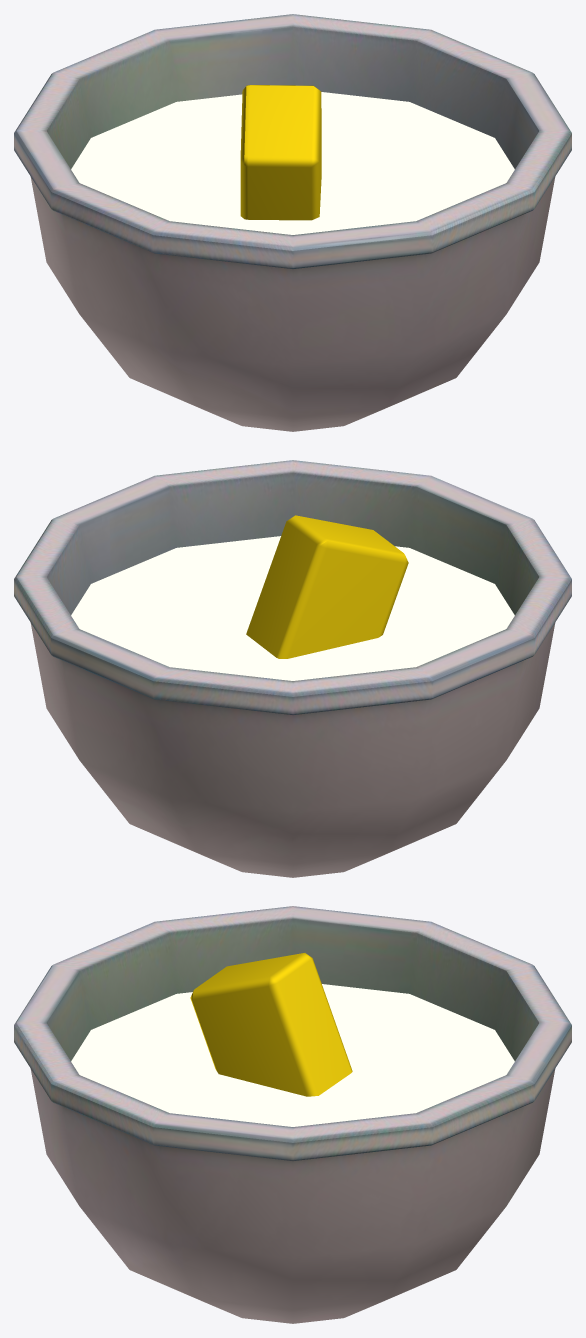
Rendered from mixingBowlButtered.glb.
3 views of the same model, one above another, from view 1: azimuth 30°, elevation 25°; view 2: azimuth 150°, elevation 25°; view 3: azimuth 270°, elevation 25° (orthographic).
Visible parts, largest first — view 1: MixingBowl, Cylinder, Butter; view 2: MixingBowl, Cylinder, Butter; view 3: MixingBowl, Cylinder, Butter.
Boxes of the visible parts, x1=… form: MixingBowl: x1=14, y1=14, x2=571, y2=431; Cylinder: x1=71, y1=92, x2=514, y2=234; Butter: x1=240, y1=85, x2=321, y2=220; MixingBowl: x1=14, y1=460, x2=571, y2=877; Cylinder: x1=71, y1=536, x2=514, y2=680; Butter: x1=246, y1=515, x2=408, y2=658; MixingBowl: x1=14, y1=906, x2=571, y2=1323; Cylinder: x1=71, y1=984, x2=514, y2=1126; Butter: x1=190, y1=953, x2=352, y2=1096.
Bounding box in the file's own units: 0.3931 × 0.2541 × 0.3931.
3 materials, 3 textured.
